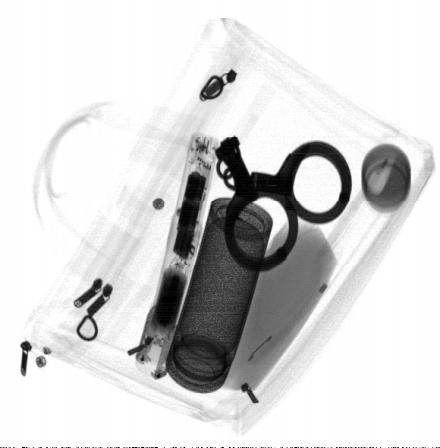Baton: (134, 131, 220, 381)
HandCuffs: (214, 131, 353, 273)
